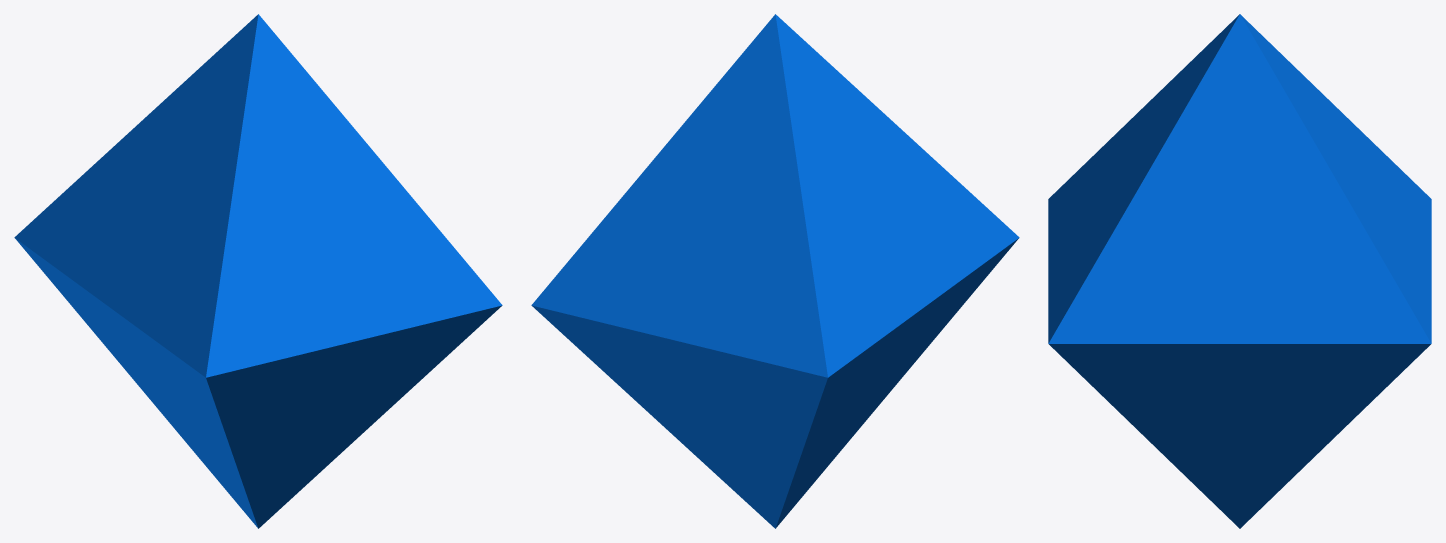
The model's file is Elmas.fbx.
3 renders of one model, left to right at view 1: azimuth 30°, elevation 25°; view 2: azimuth 150°, elevation 25°; view 3: azimuth 270°, elevation 25°, orthographic.
Visible parts, largest first — view 1: Elmas; view 2: Elmas; view 3: Elmas.
Boxes of the visible parts, x1,y1,x2,y2 form: Elmas: (14,14,502,528); Elmas: (531,14,1019,528); Elmas: (1048,14,1431,528).
Bounding box in the file's own units: 4.57 × 7.58 × 5.11.
